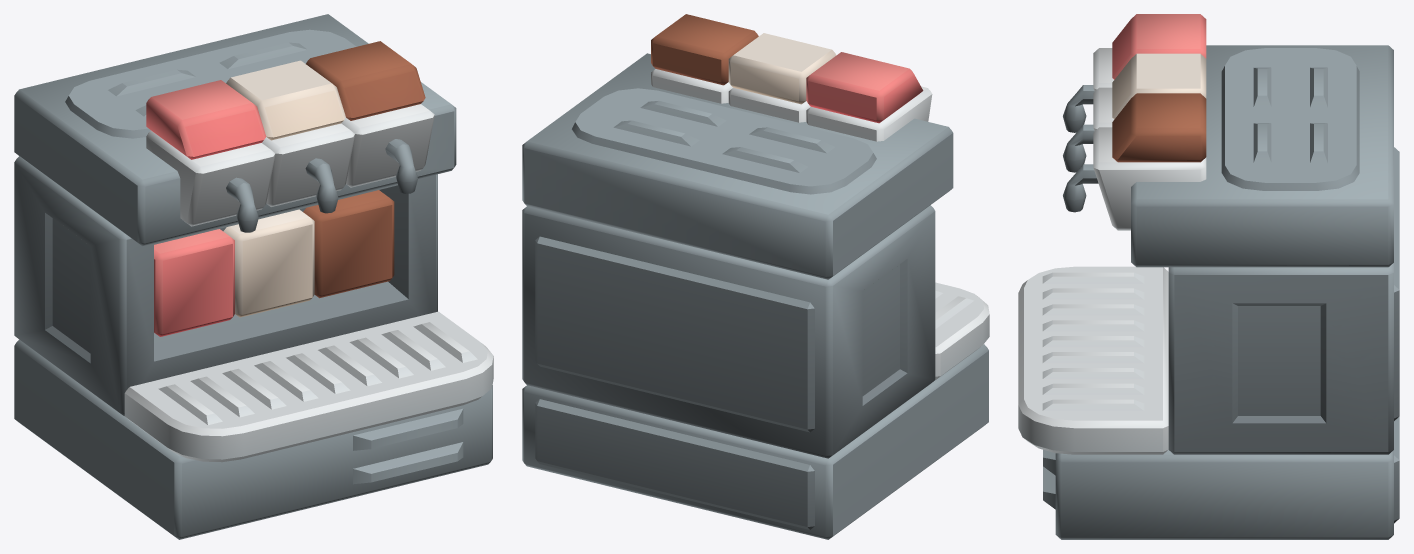
The model's file is icecream_machine.obj.
3 renders of one model, left to right at view 1: azimuth 30°, elevation 25°; view 2: azimuth 150°, elevation 25°; view 3: azimuth 270°, elevation 25°, orthographic. The views are drawn at different scales.
Parts seen in each view (by area): view 1: icecream_machine_Cube.397; view 2: icecream_machine_Cube.397; view 3: icecream_machine_Cube.397.
Boxes of the visible parts, x1,y1,x2,y2 form: icecream_machine_Cube.397: (14,14,493,539); icecream_machine_Cube.397: (522,14,989,539); icecream_machine_Cube.397: (1018,14,1399,539).
Size of the model in its own units: 2 by 2.3 by 2.03.
Materials: 1 (1 with a texture image).
